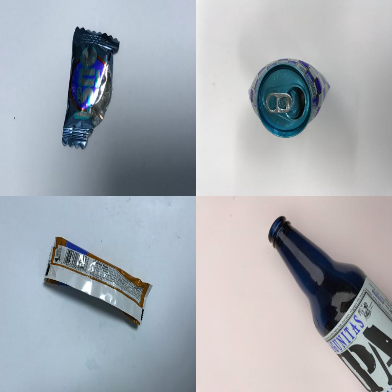glass: (267, 215, 391, 392)
metal: (248, 58, 329, 138)
trash: (42, 236, 153, 330), (63, 27, 121, 150)
